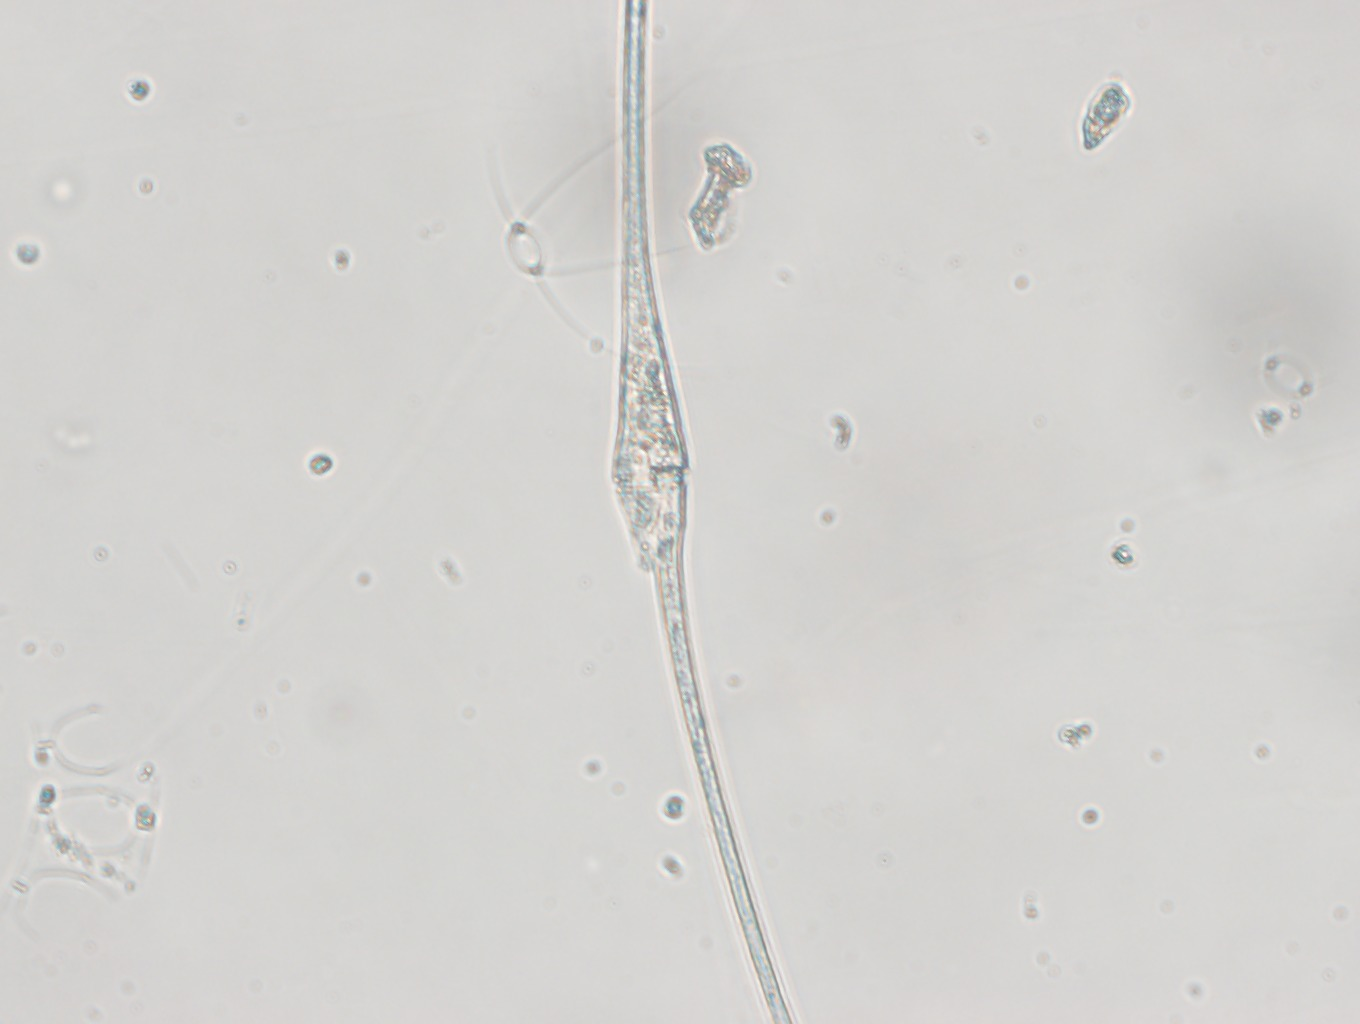ceratium fusus: (611, 2, 794, 1024)
chaetoceros: (479, 69, 768, 369)
eucampia: (6, 703, 189, 935)
